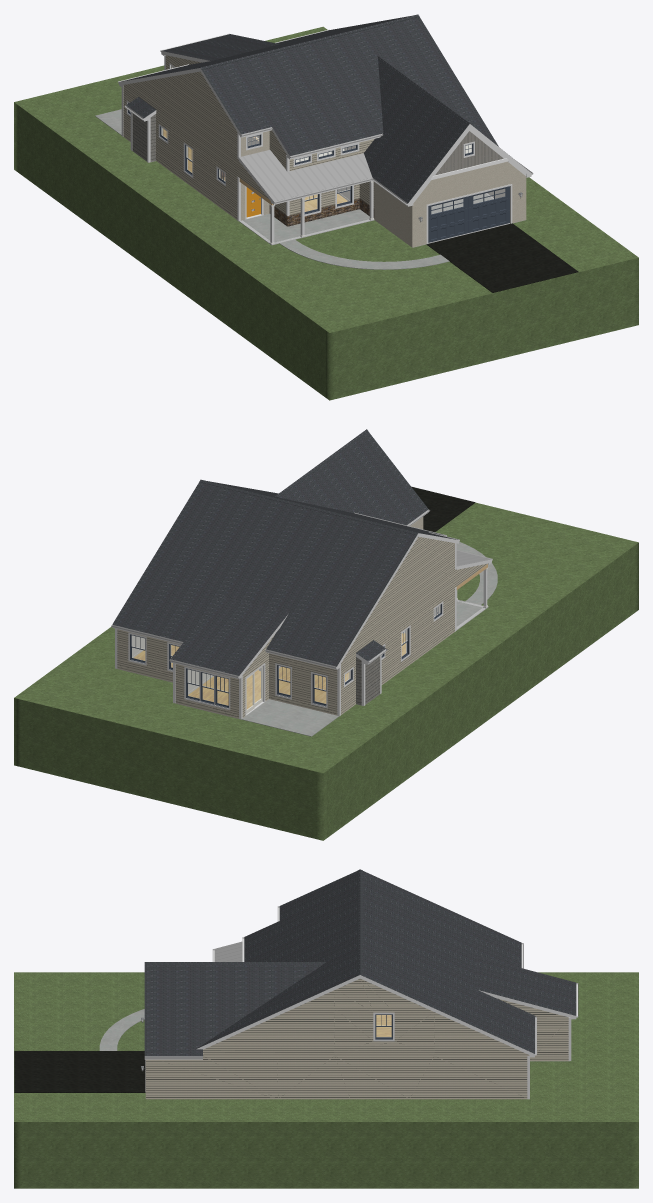
The model's file is house.dae.
3 renders of one model, top to bottom at view 1: azimuth 30°, elevation 25°; view 2: azimuth 150°, elevation 25°; view 3: azimuth 270°, elevation 25°, orthographic.
Parts seen in each view (by area): view 1: geo_132, geo_69, geo_183, geo_67, geo_199, geo_186, geo_61, geo_99, geo_66, geo_127, geo_174, geo_138 (+3 smaller); view 2: geo_132, geo_69, geo_183, geo_67, geo_61, geo_127, geo_59, geo_66, geo_199, geo_11, geo_175; view 3: geo_132, geo_69, geo_183, geo_199, geo_67, geo_61, geo_99.
Part boxes in pixels (x1,y1,x2,y2): geo_132: [14, 26, 638, 400]; geo_69: [121, 14, 509, 202]; geo_183: [123, 55, 374, 219]; geo_67: [118, 29, 533, 244]; geo_199: [426, 223, 578, 292]; geo_186: [241, 131, 526, 247]; geo_61: [95, 109, 492, 269]; geo_99: [239, 150, 372, 201]; geo_66: [128, 103, 509, 242]; geo_127: [161, 127, 504, 213]; geo_174: [435, 131, 503, 175]; geo_138: [269, 198, 374, 226]; geo_132: [14, 502, 638, 840]; geo_69: [112, 429, 457, 675]; geo_183: [117, 536, 487, 718]; geo_67: [111, 509, 492, 719]; geo_61: [241, 542, 497, 736]; geo_127: [132, 605, 440, 709]; geo_59: [134, 633, 405, 708]; geo_66: [130, 604, 441, 708]; geo_199: [411, 486, 475, 532]; geo_11: [131, 563, 488, 713]; geo_175: [356, 656, 379, 705]; geo_132: [14, 972, 638, 1188]; geo_69: [144, 869, 576, 1056]; geo_183: [146, 978, 568, 1099]; geo_199: [14, 1051, 145, 1092]; geo_67: [144, 906, 578, 1099]; geo_61: [99, 1009, 144, 1050]; geo_99: [214, 941, 242, 961].
Size of the model in its own units: 720 by 1272 by 431.
Materials: 64 (33 with a texture image).
